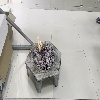fire: (37, 35, 42, 51)
